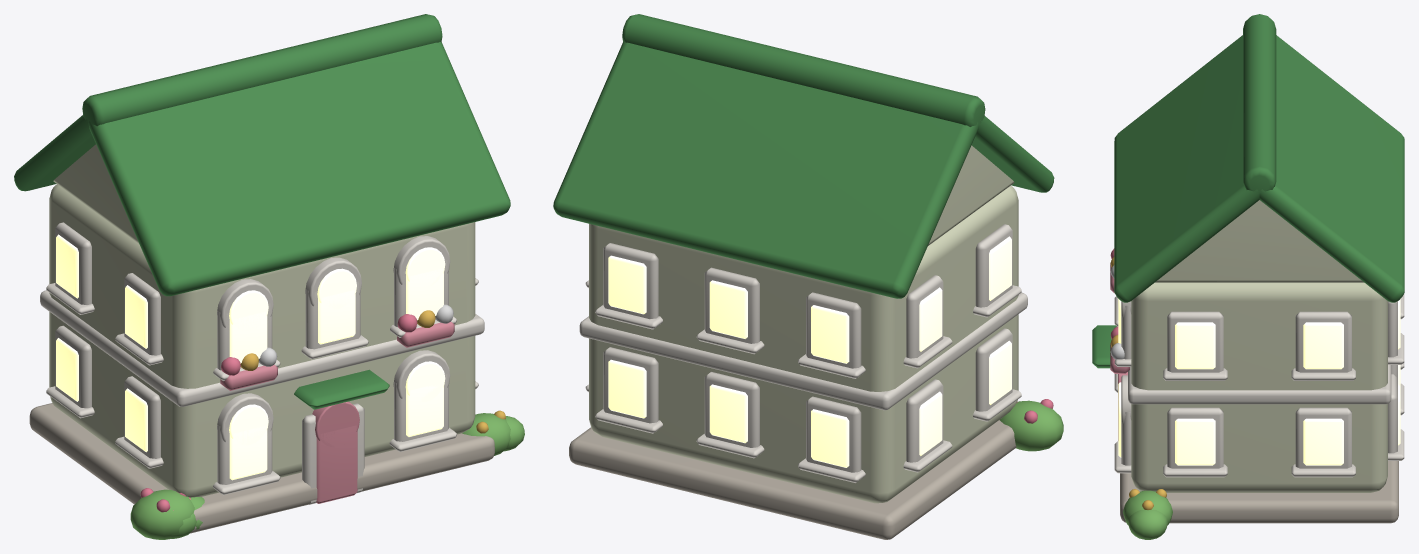
The picture shows the model from 3 angles, left to right: view 1: azimuth 30°, elevation 25°; view 2: azimuth 150°, elevation 25°; view 3: azimuth 270°, elevation 25°; orthographic projection. The views are drawn at different scales.
Parts seen in each view (by area): view 1: Cube; view 2: Cube; view 3: Cube.
Boxes of the visible parts, x1,y1,x2,y2 form: Cube: (14, 14, 524, 539); Cube: (553, 14, 1063, 539); Cube: (1092, 14, 1404, 539).
Bounding box in the file's own units: 0.7531 × 0.727 × 0.5602.
